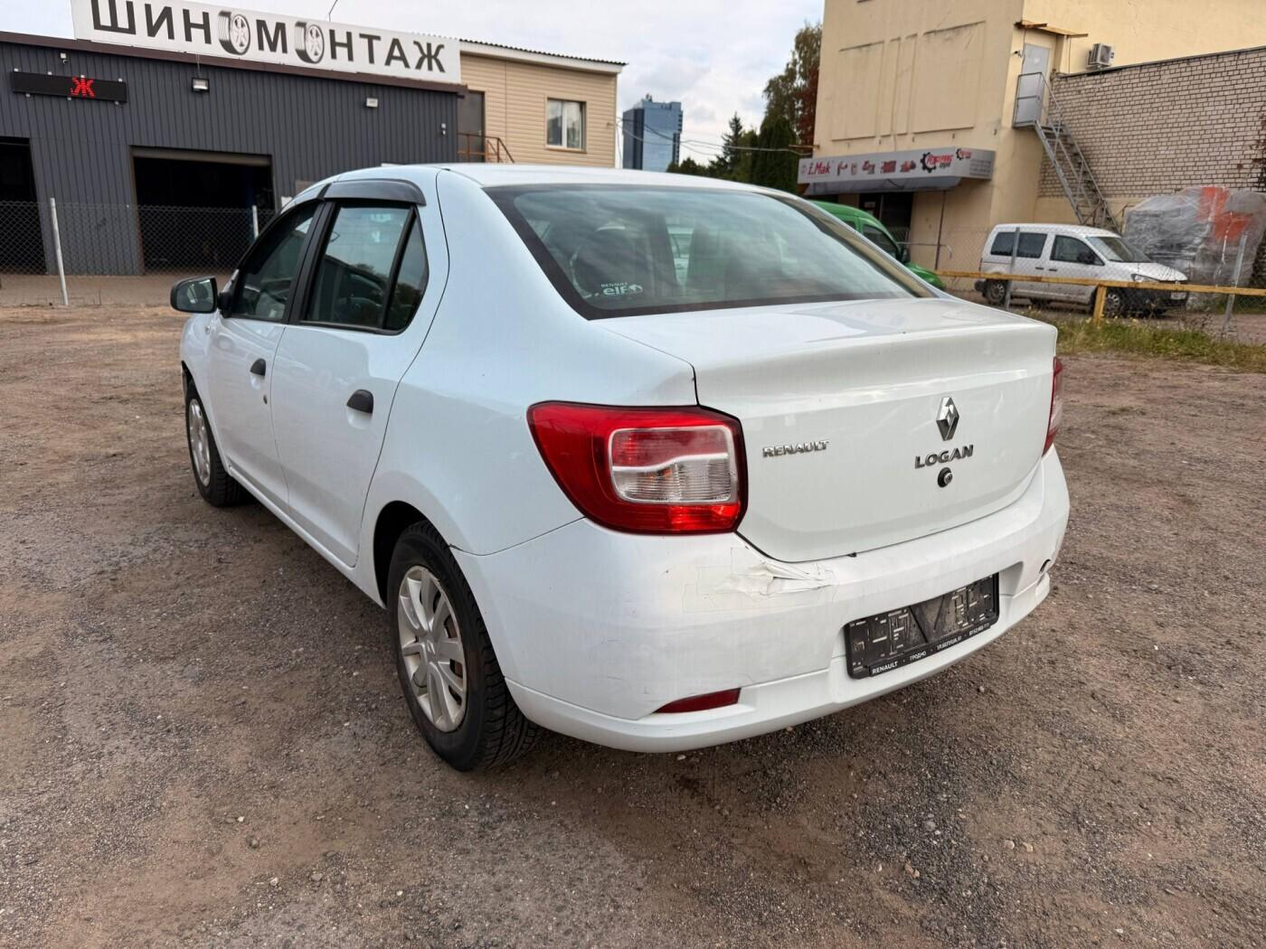Logan_2018: (169, 164, 1081, 760)
